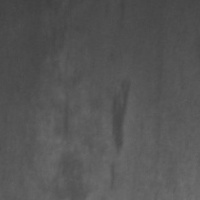inclusion: (104, 71, 138, 161), (53, 83, 78, 148)
